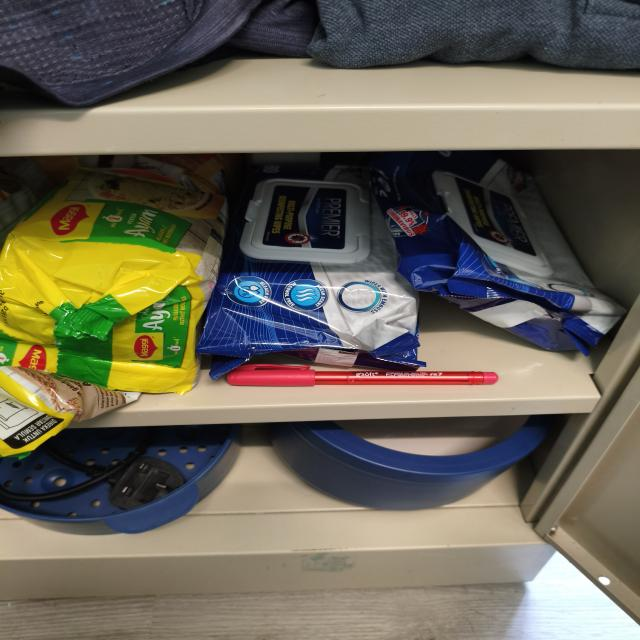pen: (227, 363, 498, 386)
